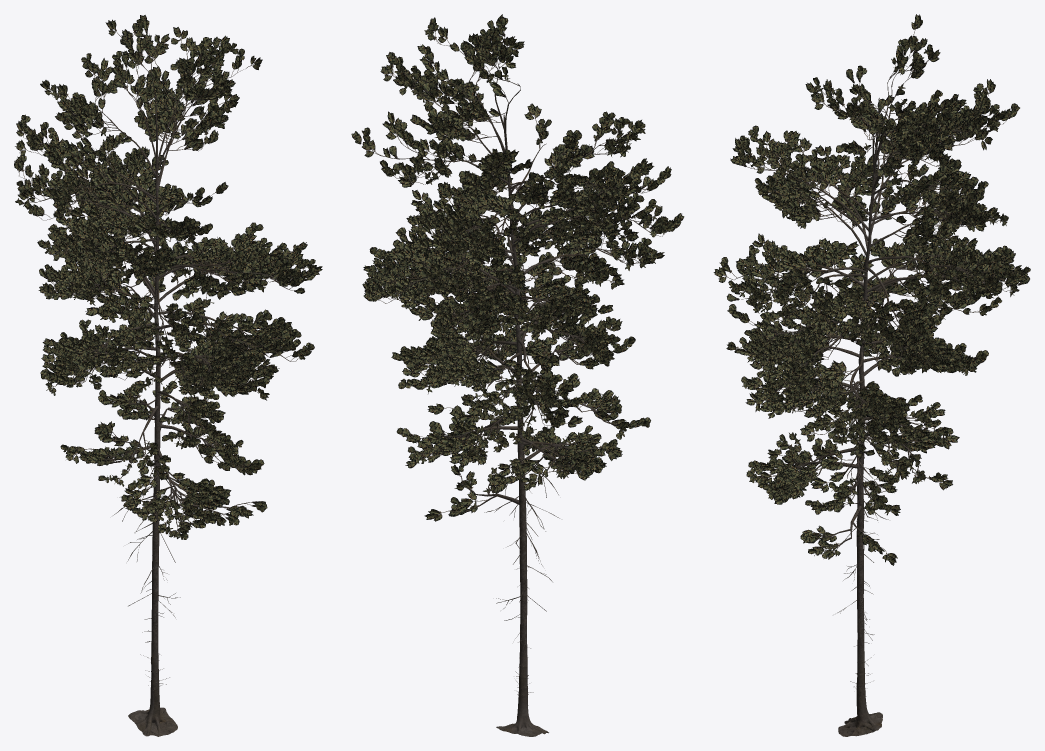
Rendered from pine_tree_01_a_LOD1_1k.gltf.
3 renders of one model, left to right at view 1: azimuth 30°, elevation 25°; view 2: azimuth 150°, elevation 25°; view 3: azimuth 270°, elevation 25°, orthographic. The views are drawn at different scales.
Parts seen in each view (by area): view 1: pine_tree_01_a_LOD1; view 2: pine_tree_01_a_LOD1; view 3: pine_tree_01_a_LOD1.
Boxes of the visible parts, x1,y1,x2,y2 form: pine_tree_01_a_LOD1: (14,15,322,736); pine_tree_01_a_LOD1: (351,14,684,736); pine_tree_01_a_LOD1: (713,14,1030,736).
Size of the model in its own units: 7.6 by 20.4 by 8.3.
4 materials, 4 textured.
